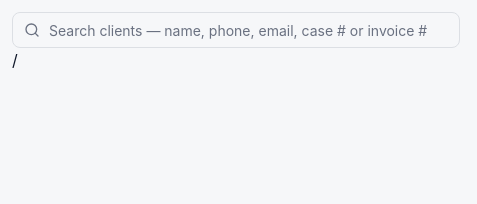
ClientSearchBar › does not search on mount, debounces, labels non-AR clients, and opens the client profile
Type "t" into the field labelled "Search clients" at (236, 30), box [12,12,460,48]
Wait 300 ms
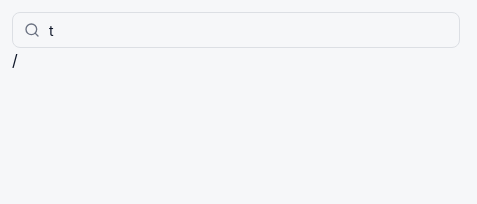
Expected: the text "Open Person" is not shown
Replace the text in the field named "Search clients" with "pe" at (236, 30), box [12,12,460,48]
Wait 300 ms
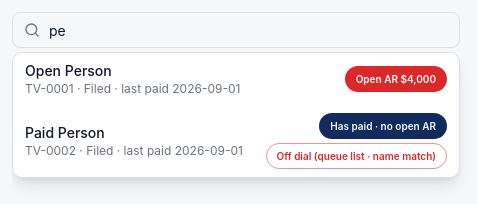
Expected: the text "Open AR $4,000" is shown, [345,66,447,92]
Expected: the text "Has paid · no open AR" is shown, [319,113,447,139]
Expected: the text "Off dial (queue list · name match)" is shown, [266,143,447,169]
Press the mouse on the text "Paid Person" at (65, 132), box [25,124,105,141]
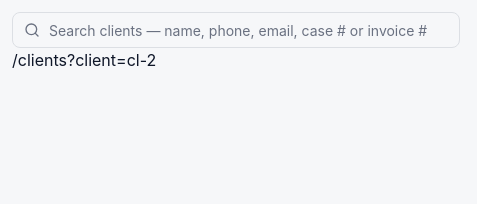
Expected: the text with test id "where" reads "/clients?client=cl-2", [12,50,156,70]
